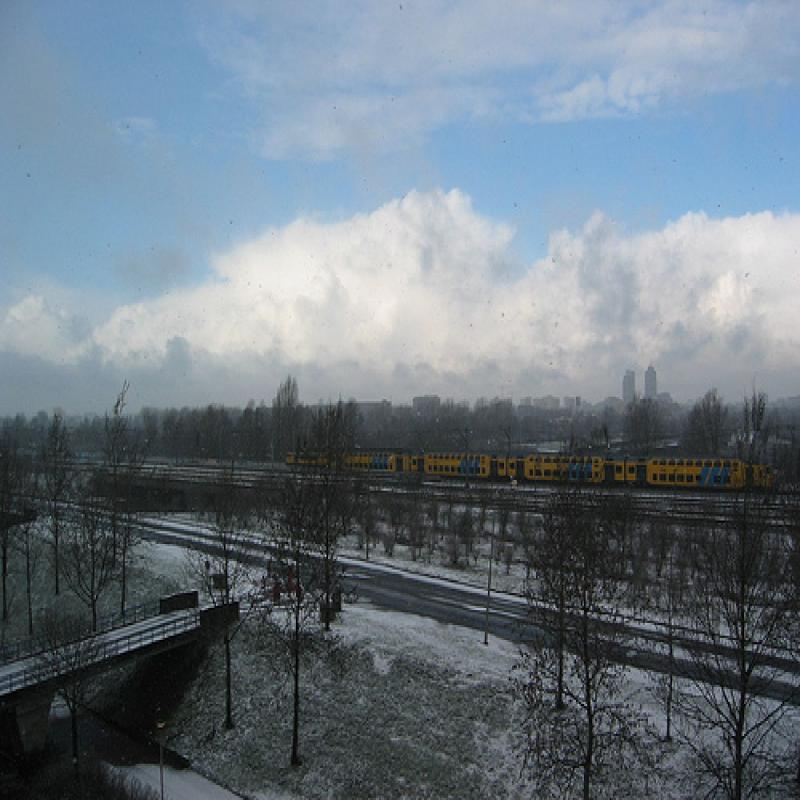train: (286, 440, 777, 496)
